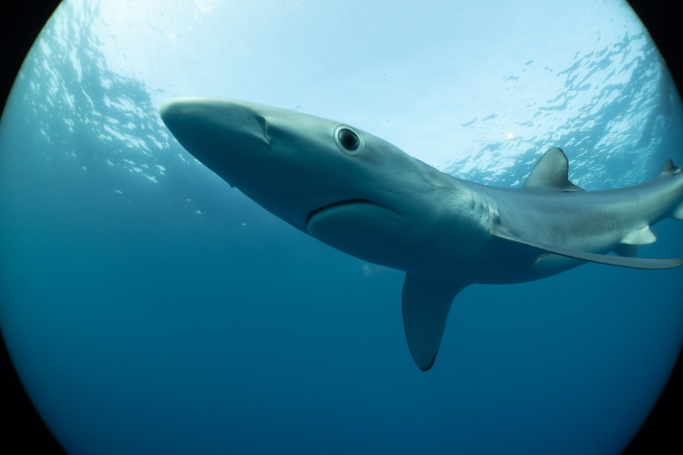Azul: (141, 71, 683, 395)
